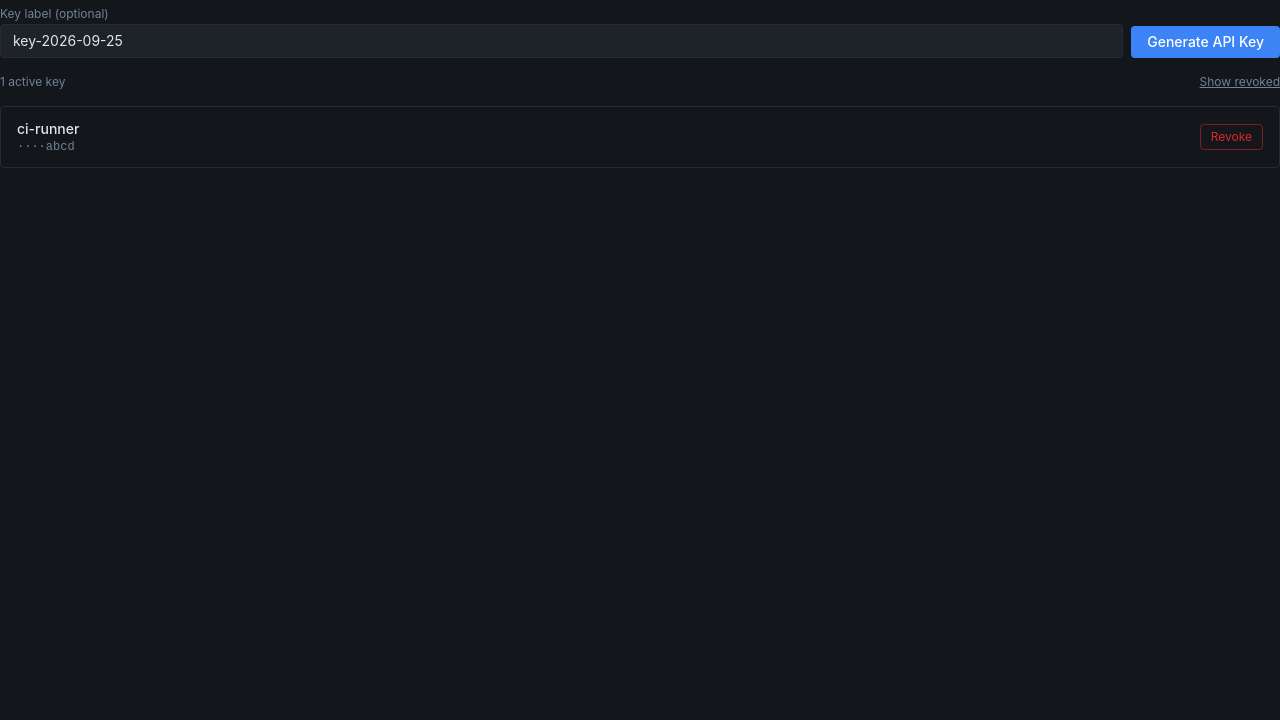
Test: APIKeyManager › opens revoke confirm modal when revoke button clicked
The width and height of the screenshot is (1280, 720).
Click the button with test id "revoke-button-k1".
click(1231, 137)  # box [1200,124,1263,150]
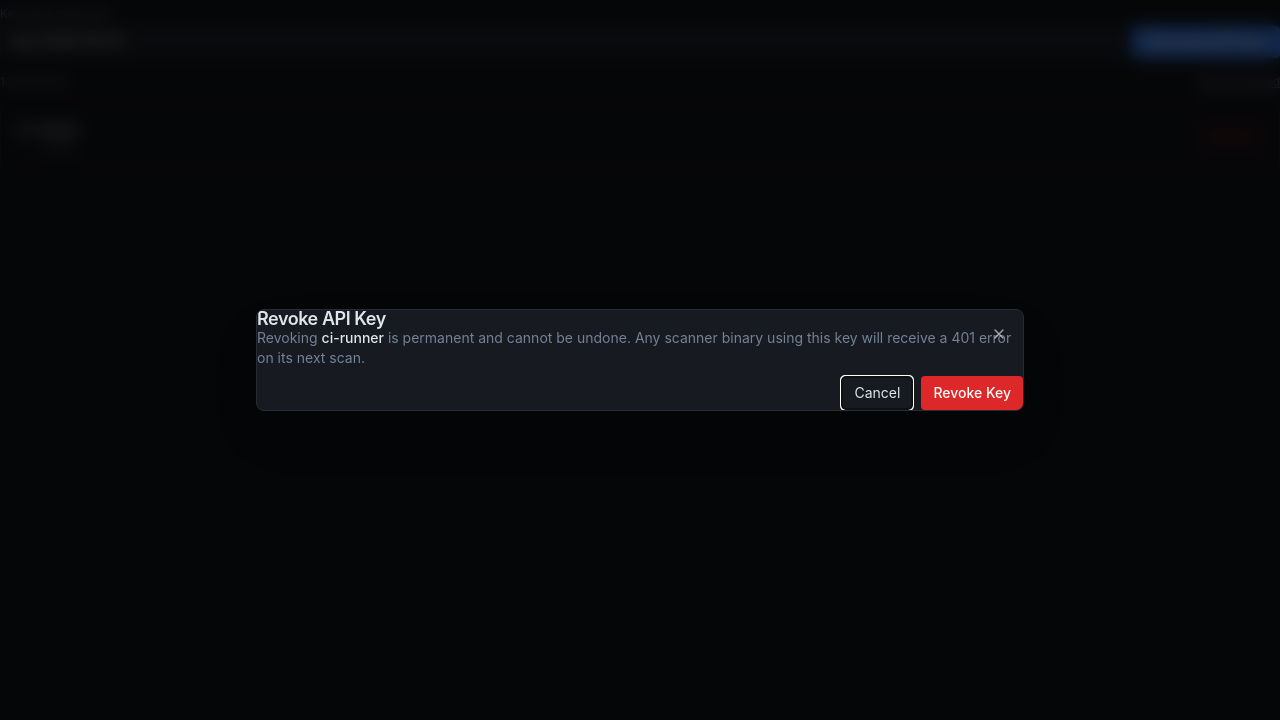
Now the dialog with test id "revoke-confirm-modal" is shown, box [256,309,1024,411]
